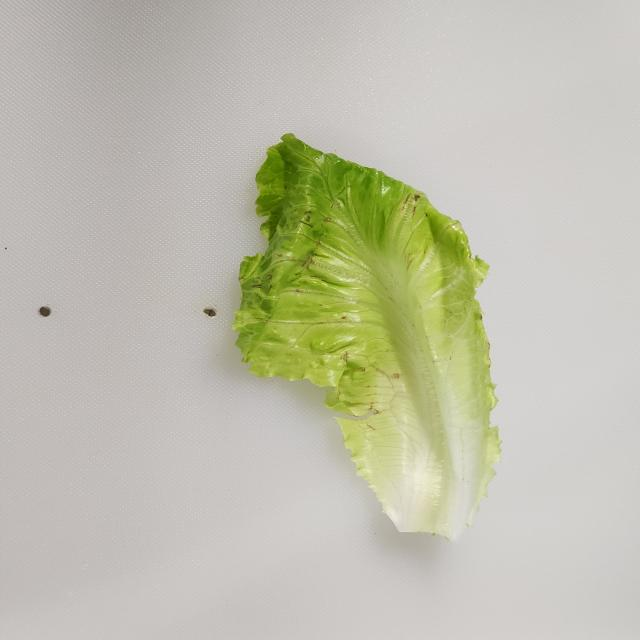lettuce: (231, 132, 503, 543)
